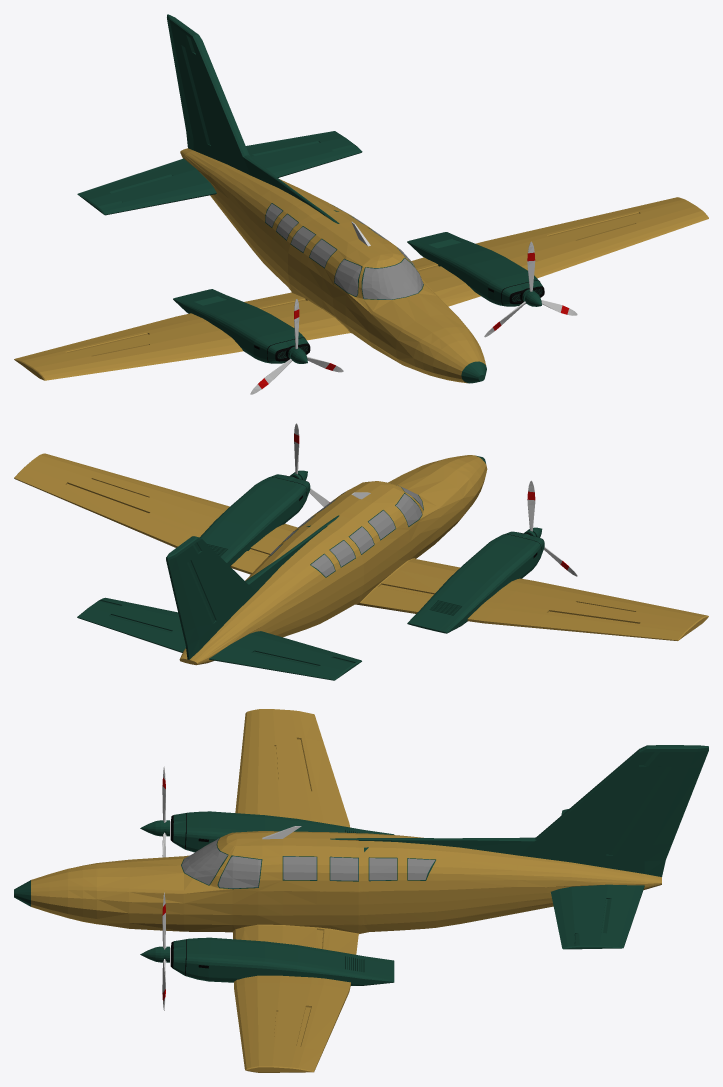
The model's file is cessna.obj.
3 renders of one model, top to bottom at view 1: azimuth 30°, elevation 25°; view 2: azimuth 150°, elevation 25°; view 3: azimuth 270°, elevation 25°, orthographic. The views are drawn at different scales.
Parts seen in each view (by area): view 1: fuselage, wings, engine, deicing, glass, tail, elevator, rflaps, fuslage2, rudder, access, flaps2 (+5 smaller); view 2: fuselage, wings, engine, rflaps, tail, elevator, flaps2, rudder, fuslage2, flaps, glass, deicing (+6 smaller); view 3: fuselage, wings, engine, tail, fuslage2, rudder, deicing, glass, rflaps, elevator, flaps, cargo (+9 smaller).
Part boxes in pixels (box(x1,y1,x2,y2)): fuselage: box(180, 148, 486, 375); wings: box(14, 197, 705, 379); engine: box(173, 232, 542, 363); deicing: box(42, 55, 708, 380); glass: box(265, 203, 423, 299); tail: box(167, 14, 339, 223); elevator: box(78, 142, 362, 215); rflaps: box(77, 131, 355, 208); fuslage2: box(210, 195, 467, 383); rudder: box(167, 18, 210, 144); access: box(229, 257, 527, 354); flaps2: box(56, 292, 304, 352); fuselage: box(179, 455, 487, 664); wings: box(14, 454, 708, 640); engine: box(200, 474, 544, 633); rflaps: box(77, 599, 355, 680); tail: box(166, 515, 339, 659); elevator: box(100, 598, 361, 679); flaps2: box(355, 586, 639, 636); rudder: box(166, 543, 215, 645); fuslage2: box(197, 479, 484, 664); flaps: box(55, 483, 267, 574); glass: box(269, 486, 423, 576); deicing: box(43, 453, 708, 660); fuselage: box(31, 831, 661, 915); wings: box(233, 709, 350, 1072); engine: box(173, 811, 394, 985); tail: box(330, 745, 708, 876); fuslage2: box(31, 884, 661, 934); rudder: box(606, 750, 708, 861); deicing: box(233, 710, 639, 1071); glass: box(181, 838, 435, 888); rflaps: box(574, 884, 644, 948); elevator: box(559, 809, 639, 949); flaps: box(296, 929, 358, 1051); cargo: box(461, 861, 517, 899).
Bounding box in the file's own units: 44.3 × 10.24 × 36.33.
